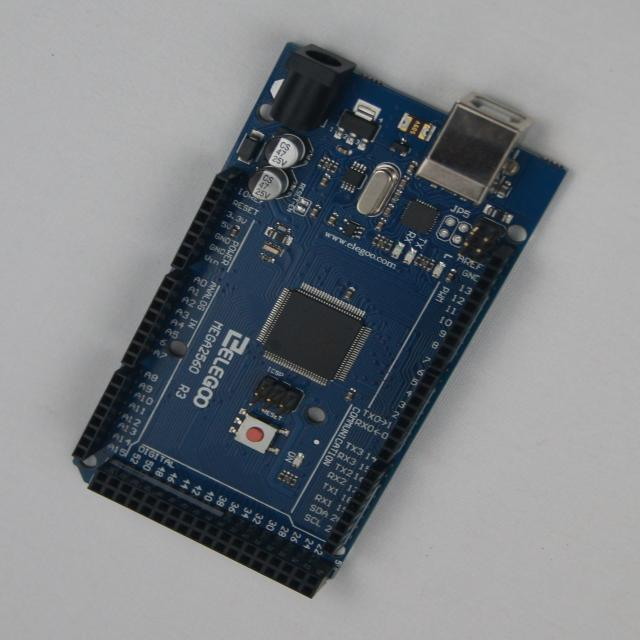Arduino Mega 2560 -Blue-: (74, 44, 566, 598)
